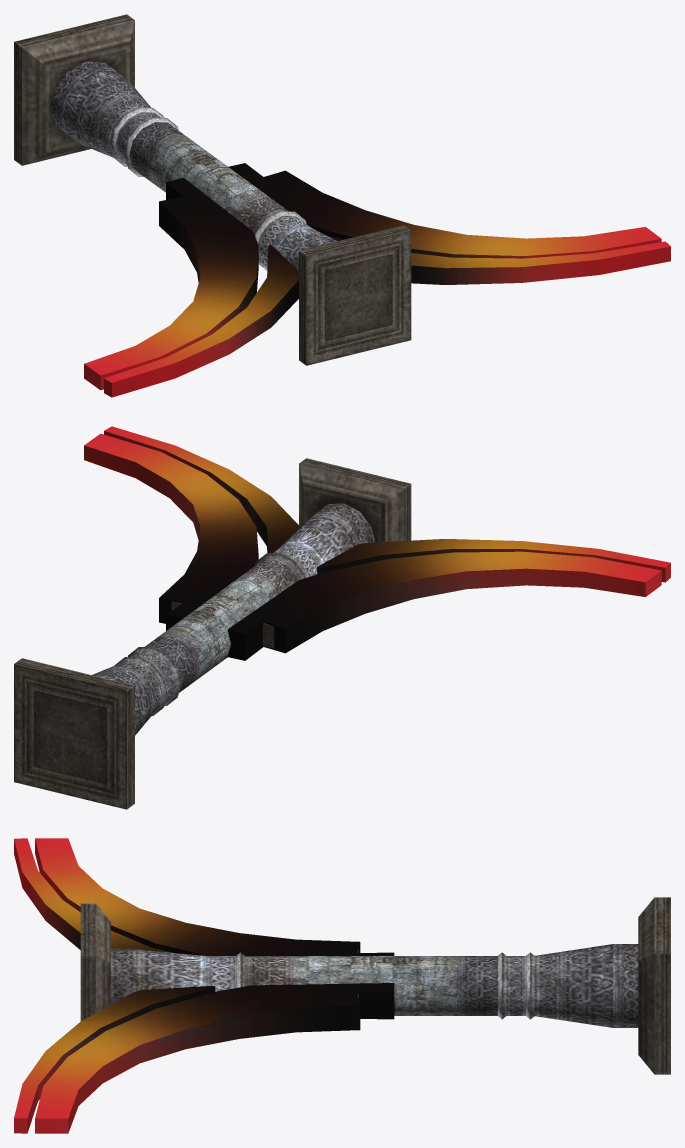
3 renders of one model, top to bottom at view 1: azimuth 30°, elevation 25°; view 2: azimuth 150°, elevation 25°; view 3: azimuth 270°, elevation 25°, orthographic. The views are drawn at different scales.
Visible parts, largest first — view 1: model_Object02; view 2: model_Object02; view 3: model_Object02.
Part boxes in pixels (x1=…): model_Object02: x1=14, y1=14, x2=670, y2=397; model_Object02: x1=14, y1=426, x2=670, y2=809; model_Object02: x1=14, y1=838, x2=670, y2=1133.
Size of the model in its own units: 4.21 by 0.8462 by 4.17.
3 materials, 3 textured.
